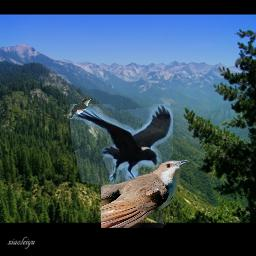Crow: (70, 104, 173, 189)
Cuckoo: (101, 160, 189, 228), (69, 98, 92, 119)
